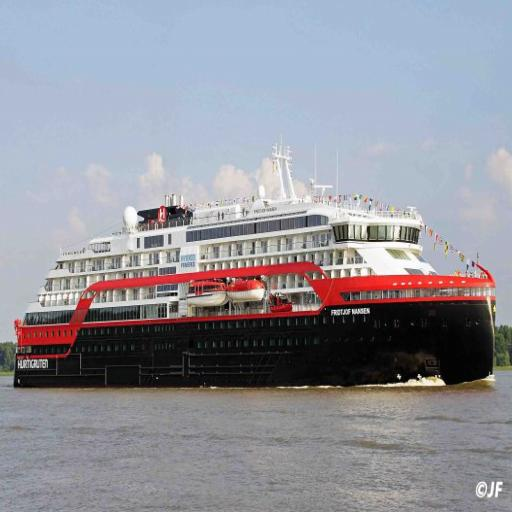cruises: (11, 142, 500, 396)
